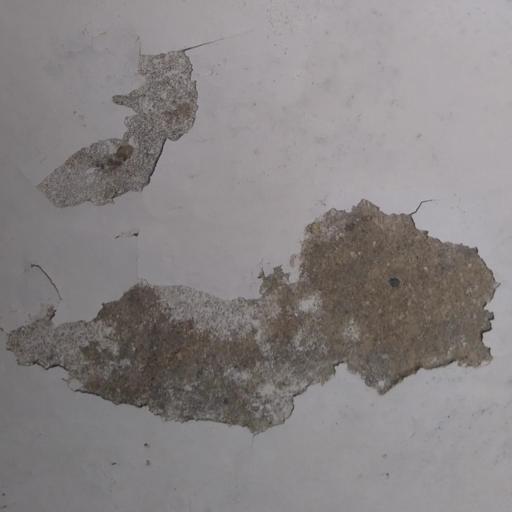peeling: (0, 191, 509, 435), (32, 43, 199, 210)
